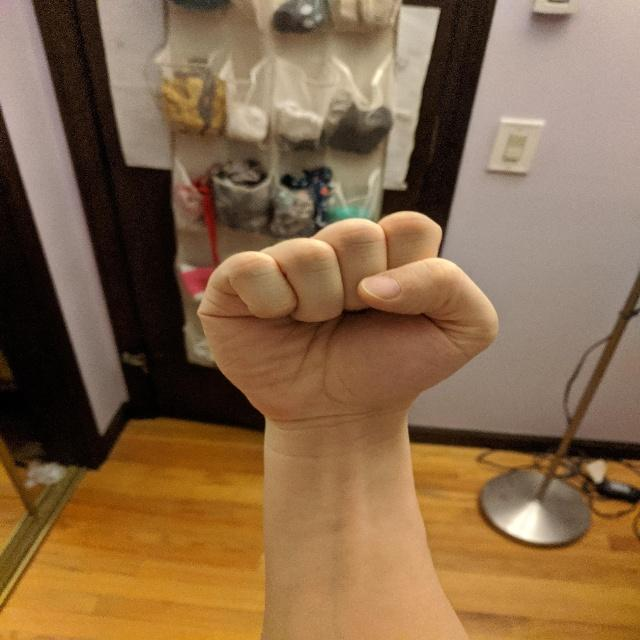S: (191, 205, 504, 430)
